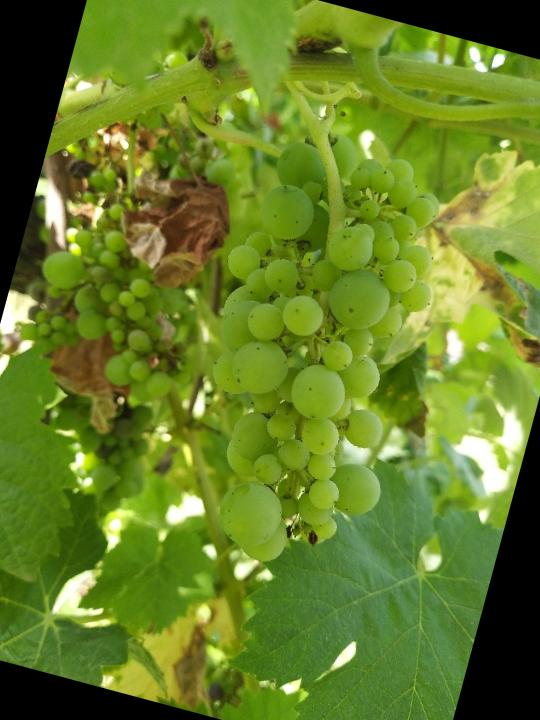grape: (150, 112, 471, 592)
